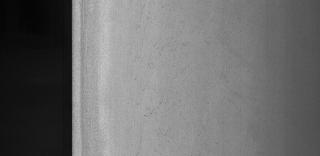silk spot: (132, 10, 224, 130)
